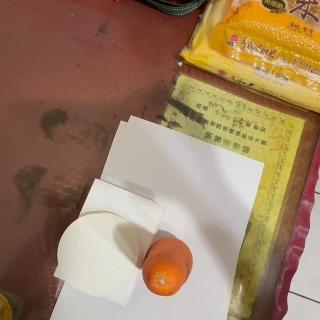carrot: (144, 238, 194, 296)
